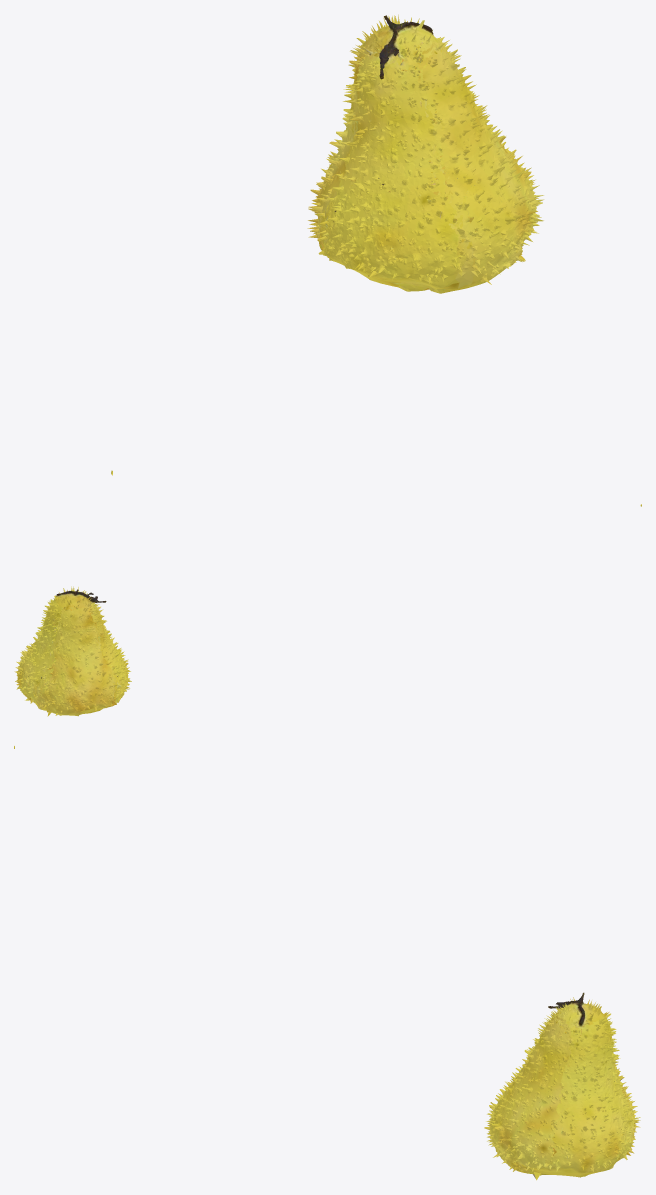
File: prickly-pear-3.glb
3 views of the same model, one above another, from view 1: azimuth 30°, elevation 25°; view 2: azimuth 150°, elevation 25°; view 3: azimuth 270°, elevation 25° (orthographic). The views are drawn at different scales.
Visible parts, largest first — view 1: Object_2; view 2: Object_2; view 3: Object_2.
Boxes of the visible parts, x1,y1,x2,y2 form: Object_2: [111, 14, 544, 475]; Object_2: [14, 504, 641, 716]; Object_2: [14, 746, 640, 1180].
Bounding box in the file's own units: 49.88 × 15.57 × 49.
1 material, 1 textured.
